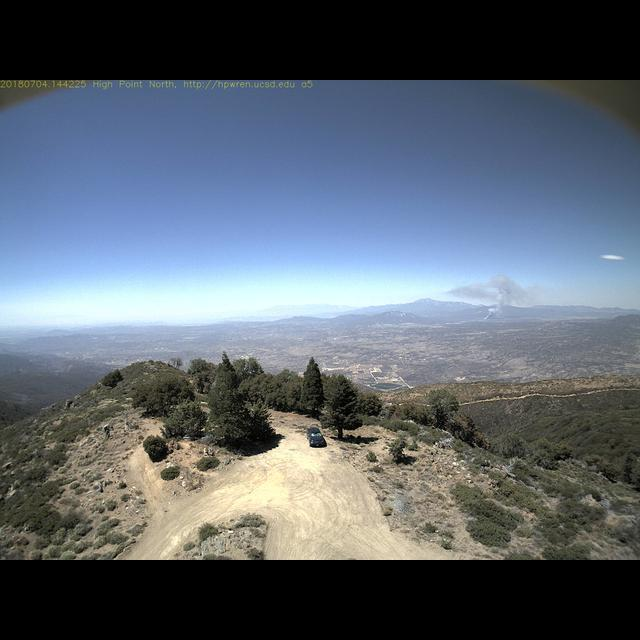Smoke: (443, 270, 547, 327)
